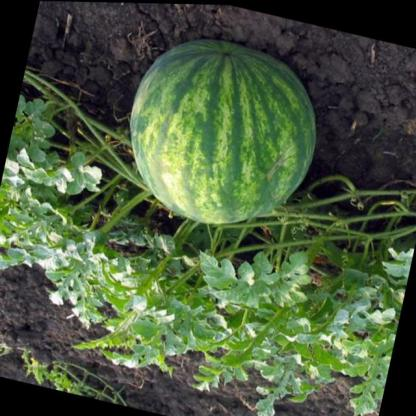watermelon: (112, 22, 335, 245)
